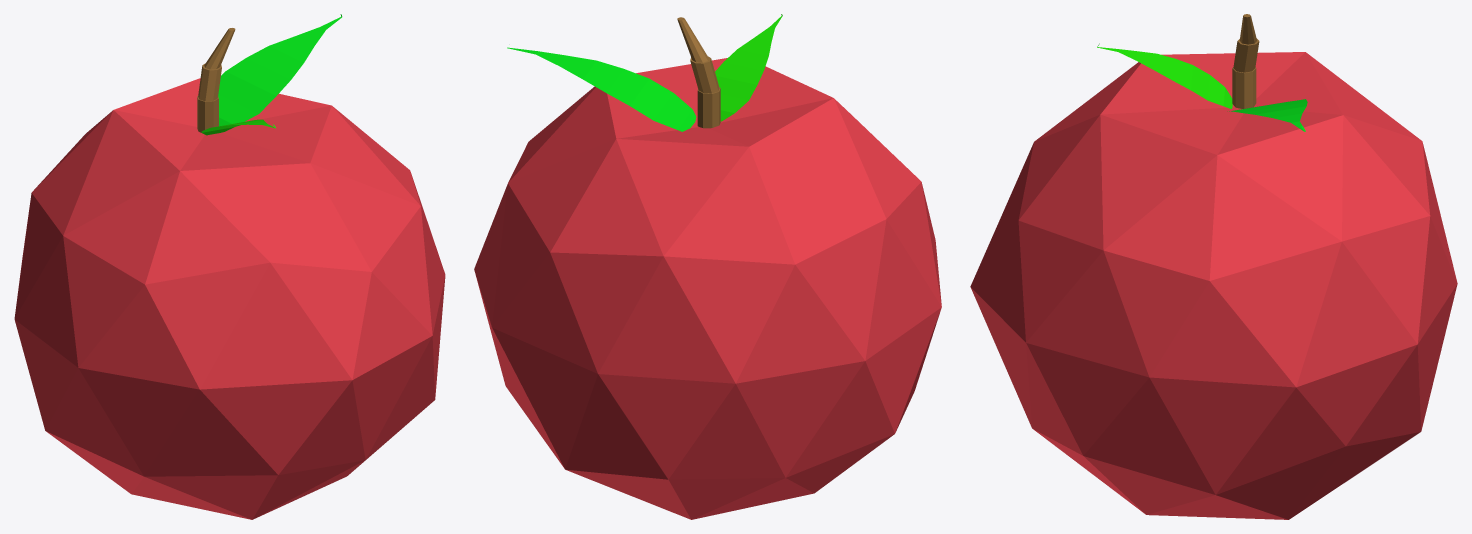
Rendered from apple.glb.
3 renders of one model, left to right at view 1: azimuth 30°, elevation 25°; view 2: azimuth 150°, elevation 25°; view 3: azimuth 270°, elevation 25°, orthographic. The views are drawn at different scales.
Visible parts, largest first — view 1: Icosphere_2; view 2: Icosphere_2; view 3: Icosphere_2.
Boxes of the visible parts, left/top/right/bottom form: Icosphere_2: left=14, top=14, right=445, bottom=519; Icosphere_2: left=474, top=14, right=941, bottom=519; Icosphere_2: left=970, top=14, right=1457, bottom=519.
Size of the model in its own units: 1.91 by 2.26 by 2.02.
